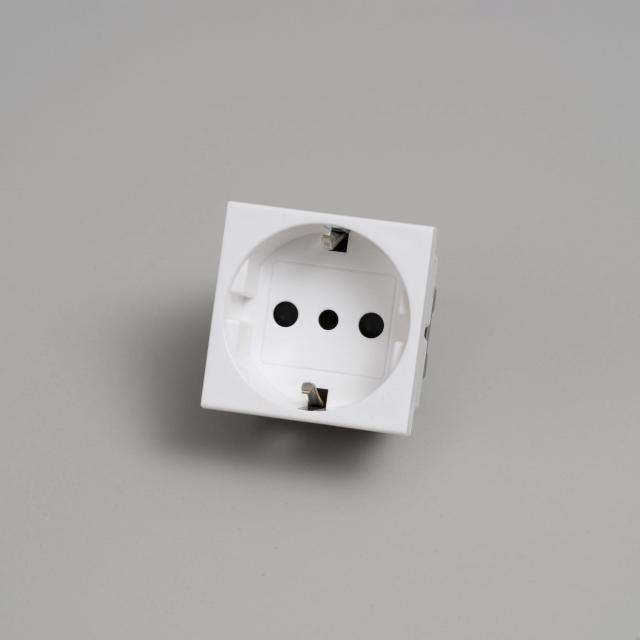typeb: (152, 137, 490, 495)
